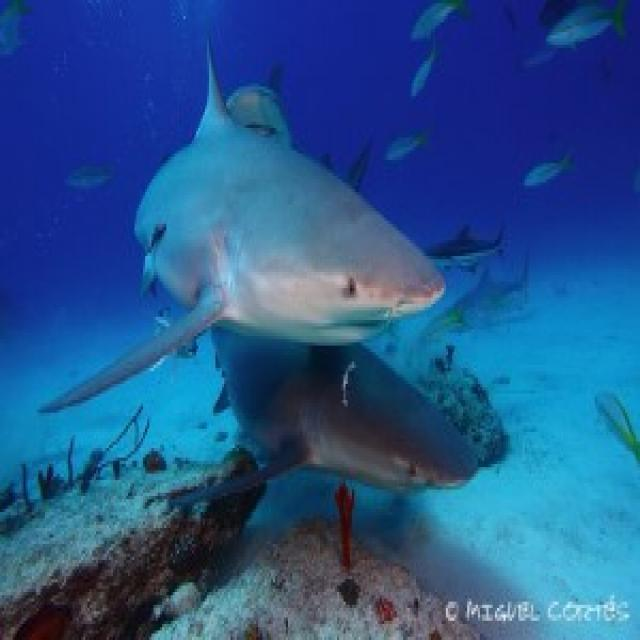Shark: (133, 46, 444, 336), (212, 347, 476, 515), (427, 228, 511, 267)
